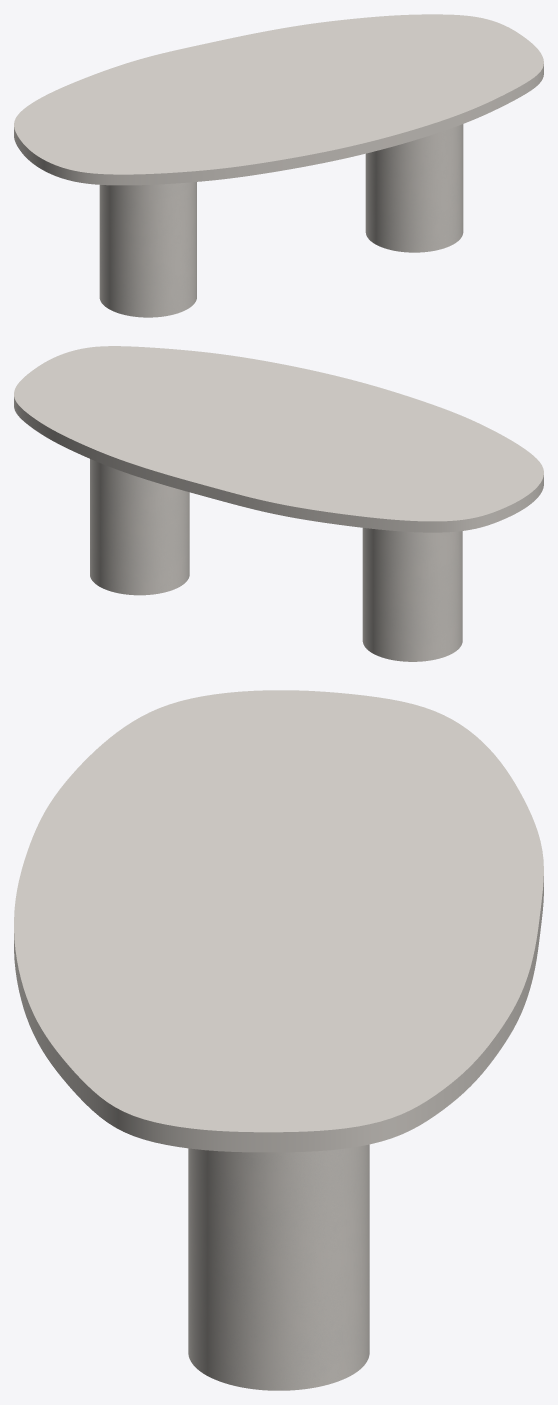
Rendered from pearlwhite_danishoval_standard_stream.glb.
The picture shows the model from 3 angles, top to bottom: view 1: azimuth 30°, elevation 25°; view 2: azimuth 150°, elevation 25°; view 3: azimuth 270°, elevation 25°; orthographic projection. The views are drawn at different scales.
Parts seen in each view (by area): view 1: standard_danish, stream; view 2: standard_danish, stream; view 3: standard_danish, stream.
Boxes of the visible parts, x1,y1,x2,y2 form: standard_danish: (14, 14, 543, 185); stream: (99, 124, 463, 317); standard_danish: (14, 346, 543, 532); stream: (90, 459, 462, 661); standard_danish: (14, 690, 543, 1152); stream: (188, 1144, 369, 1390).
Size of the model in its own units: 7.5 by 2.51 by 3.8.
Materials: 1 (1 with a texture image).
